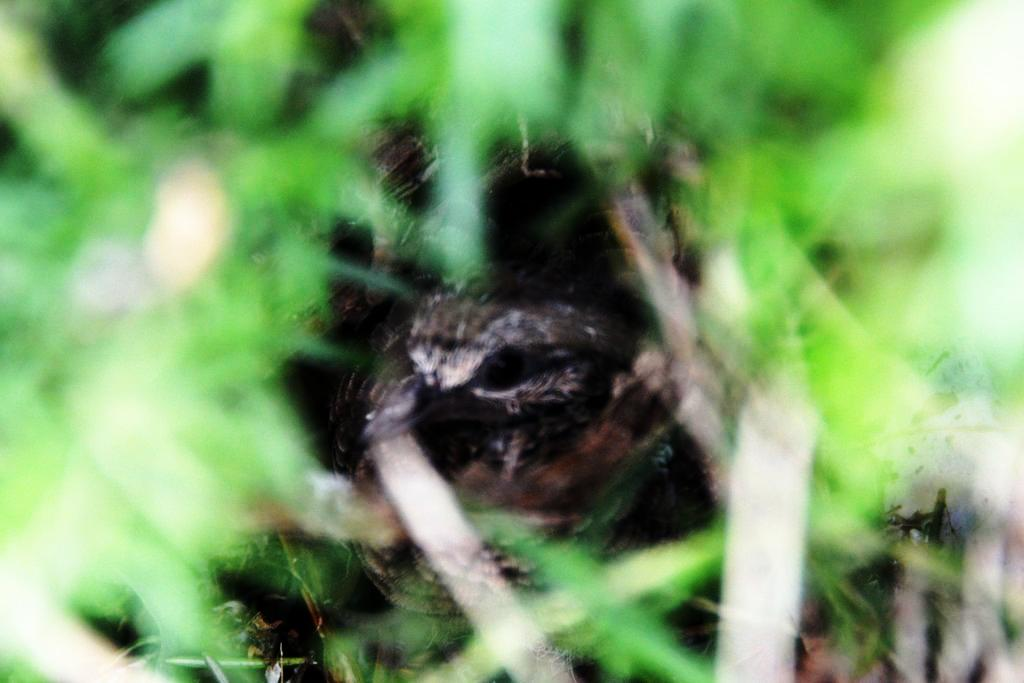Owl: (250, 183, 797, 609)
